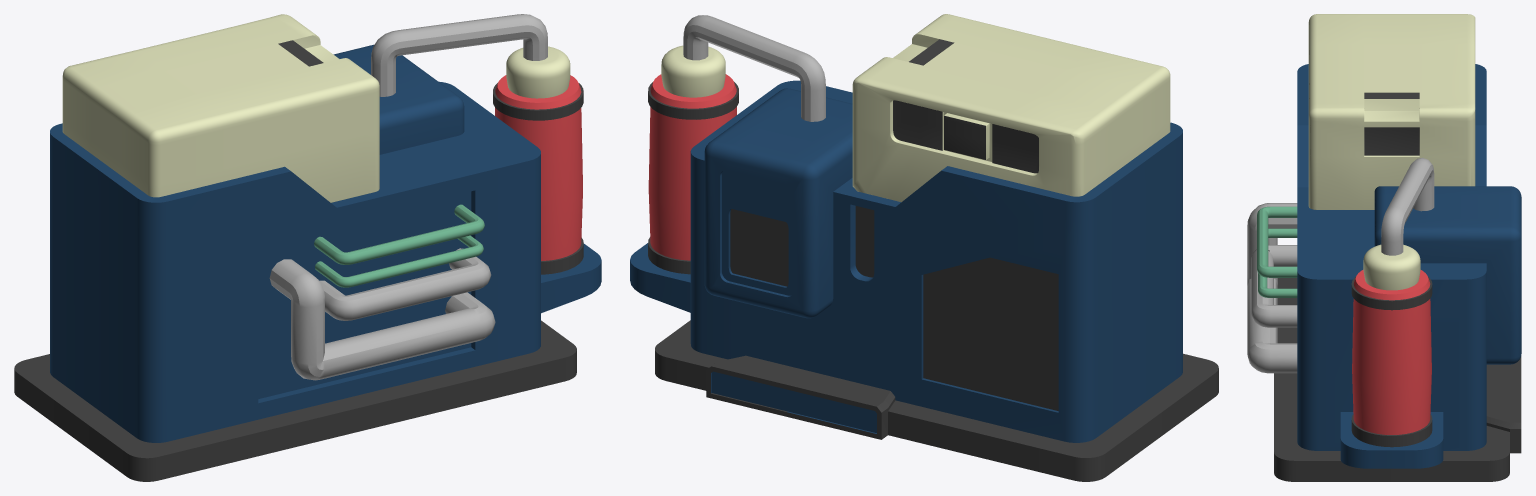
File: Generator.fbx
3 views of the same model, side by side, from view 1: azimuth 30°, elevation 25°; view 2: azimuth 150°, elevation 25°; view 3: azimuth 270°, elevation 25° (orthographic). The views are drawn at different scales.
Parts seen in each view (by area): view 1: generatorBase; view 2: generatorBase; view 3: generatorBase.
Boxes of the visible parts, box(x1,y1,x2,y2) form: generatorBase: box(14, 14, 601, 481); generatorBase: box(630, 14, 1218, 481); generatorBase: box(1247, 14, 1521, 481).
Bounding box in the file's own units: 290 × 557 × 340.
